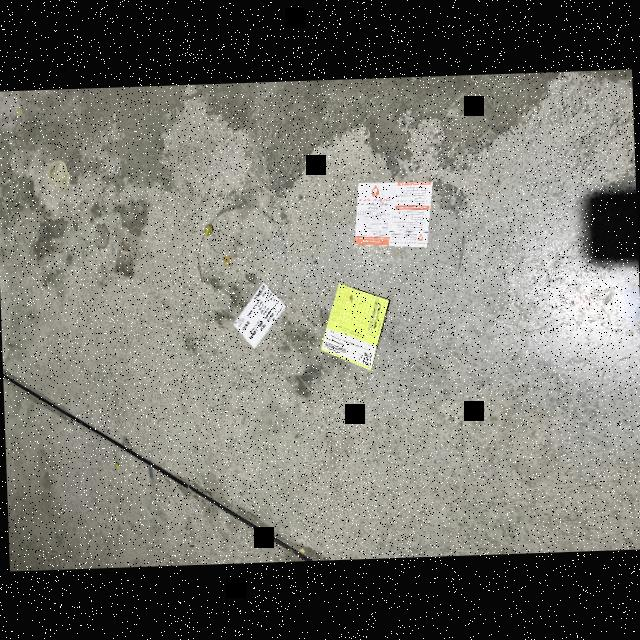scrap_paper: (312, 272, 392, 381), (344, 162, 434, 258), (228, 275, 298, 353)
